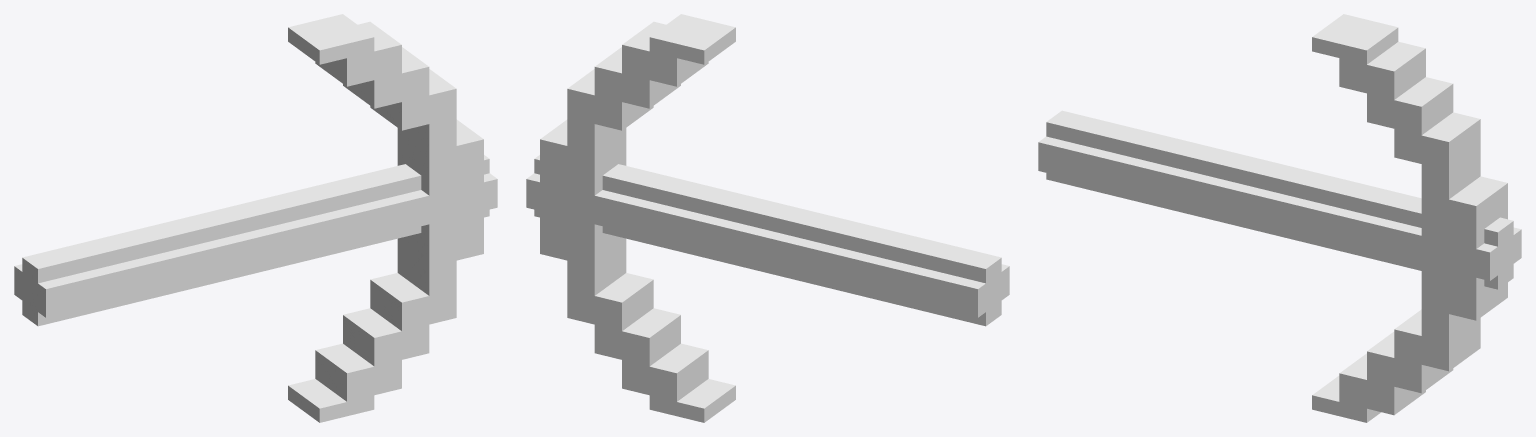
The model's file is Pickaxe.fbx.
3 views of the same model, side by side, from view 1: azimuth 30°, elevation 25°; view 2: azimuth 150°, elevation 25°; view 3: azimuth 330°, elevation 25° (orthographic).
Visible parts, largest first — view 1: Untitled; view 2: Untitled; view 3: Untitled.
Part boxes in pixels (x1=…): Untitled: x1=14, y1=14, x2=497, y2=422; Untitled: x1=526, y1=14, x2=1009, y2=422; Untitled: x1=1038, y1=14, x2=1521, y2=422.
Bounding box in the file's own units: 115 × 91 × 14.
1 material, 1 textured.
